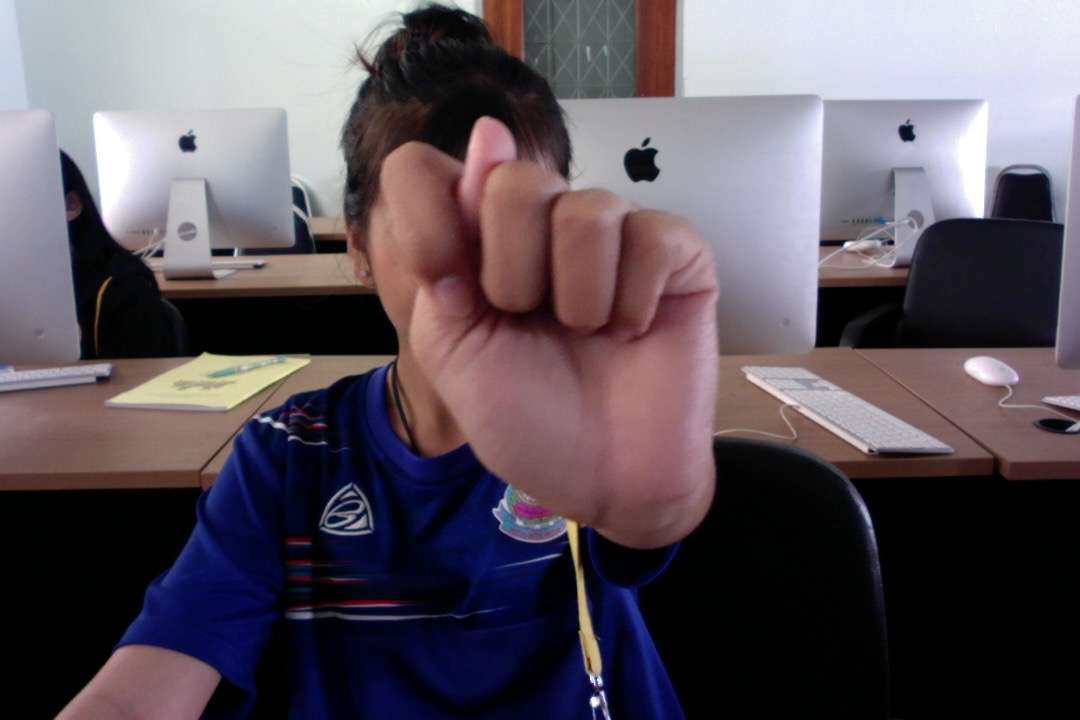tor: (370, 115, 736, 547)
